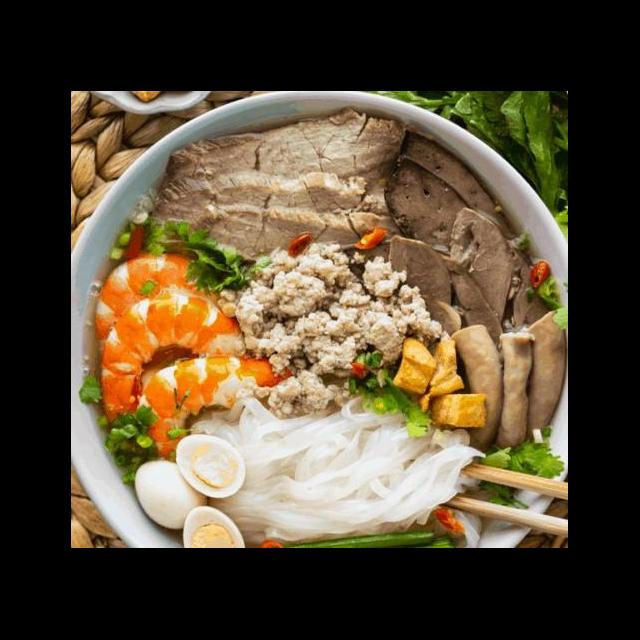banh hu tieu: (184, 392, 491, 544)
dau hu: (388, 332, 492, 432)
gan: (396, 124, 520, 248), (384, 150, 484, 262)
hu tieu: (75, 124, 568, 543)
thit heo: (154, 102, 410, 220), (142, 166, 400, 248), (184, 200, 414, 274)
tom: (96, 286, 254, 436), (134, 348, 300, 471), (90, 252, 232, 370)
trung: (128, 458, 210, 534), (172, 432, 248, 502), (180, 502, 252, 548)
